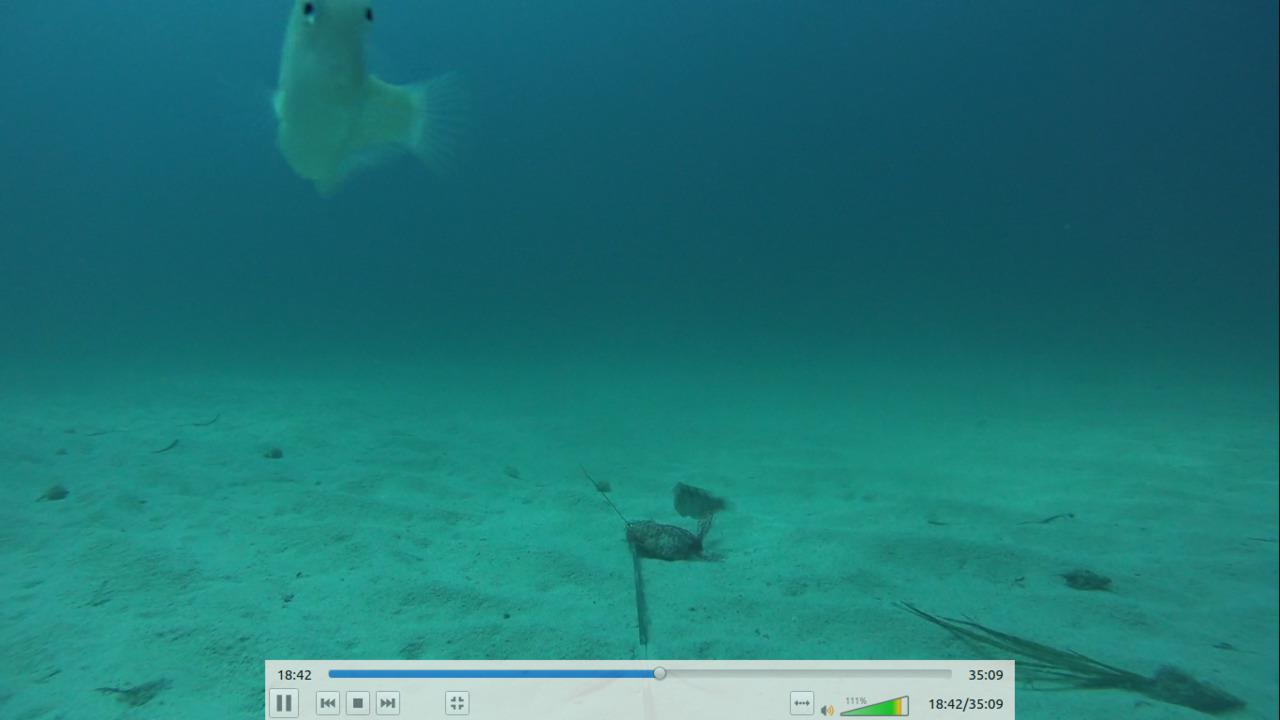raor: (667, 477, 733, 521)
